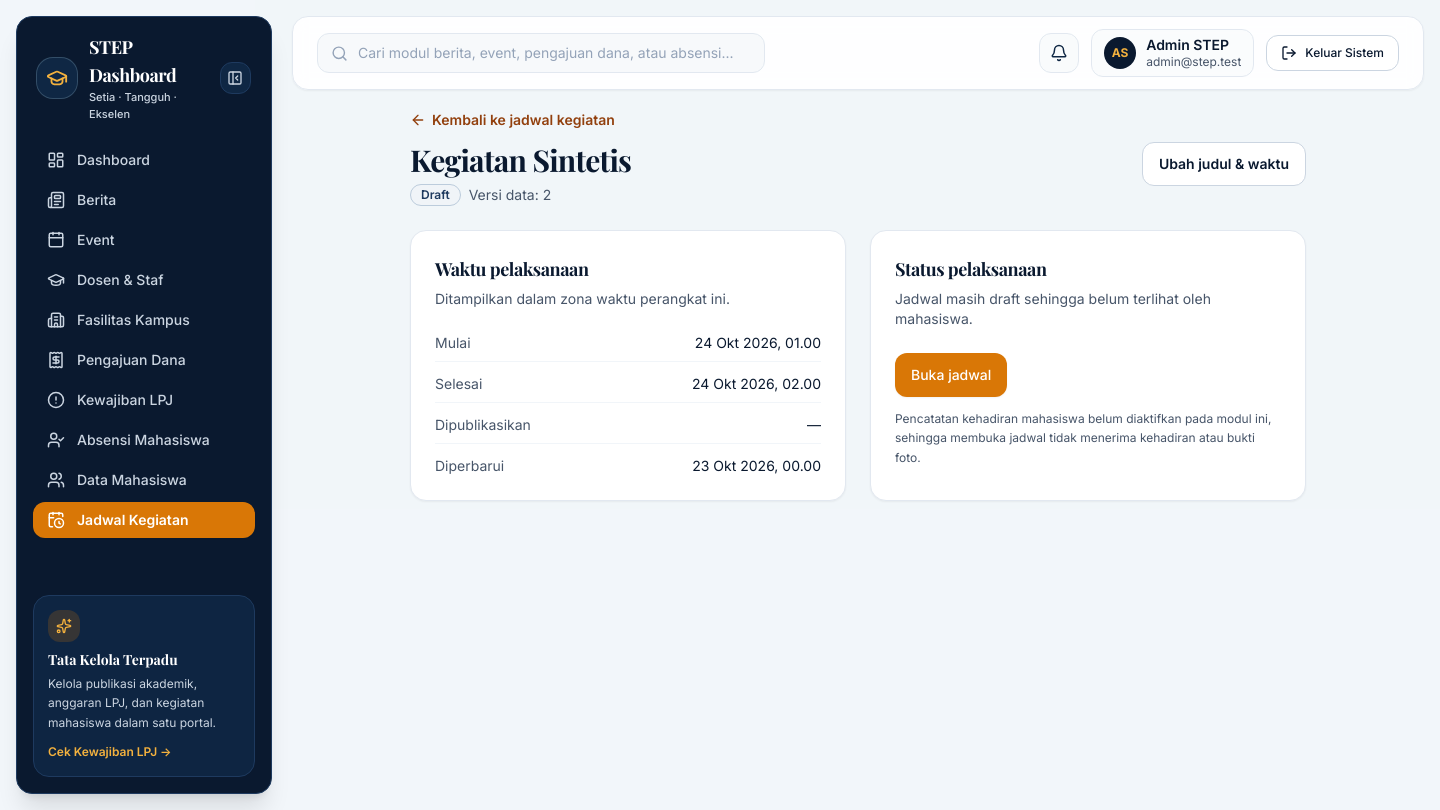
Klien mahasiswa & jadwal kegiatan (client-only, transport disimulasikan) › detail kegiatan hanya menawarkan transisi draft ke open lalu open ke closed
Click the button "Buka jadwal" at (951, 374), box [895, 352, 1007, 396]
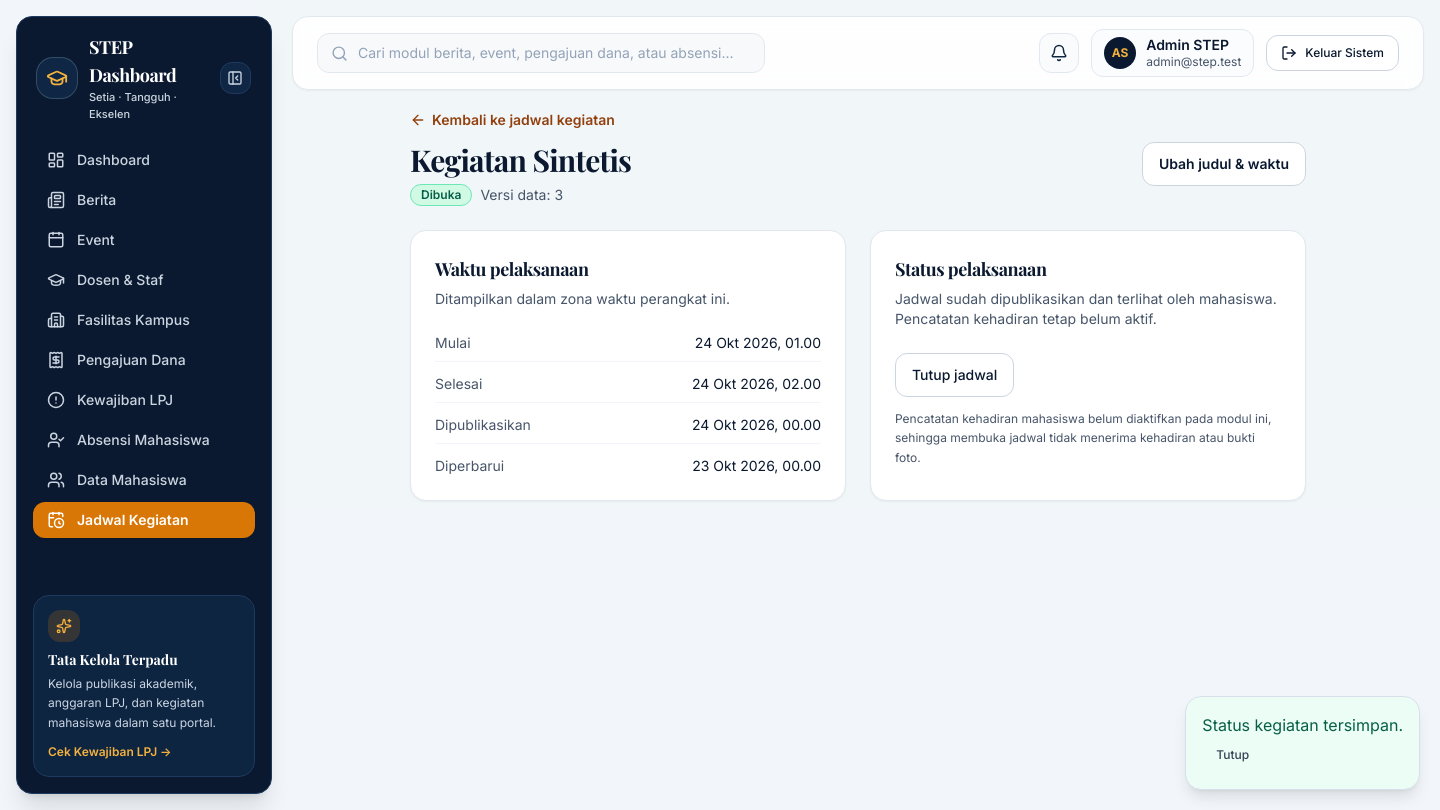
Click the button "Tutup jadwal" at (955, 374), box [895, 352, 1014, 396]
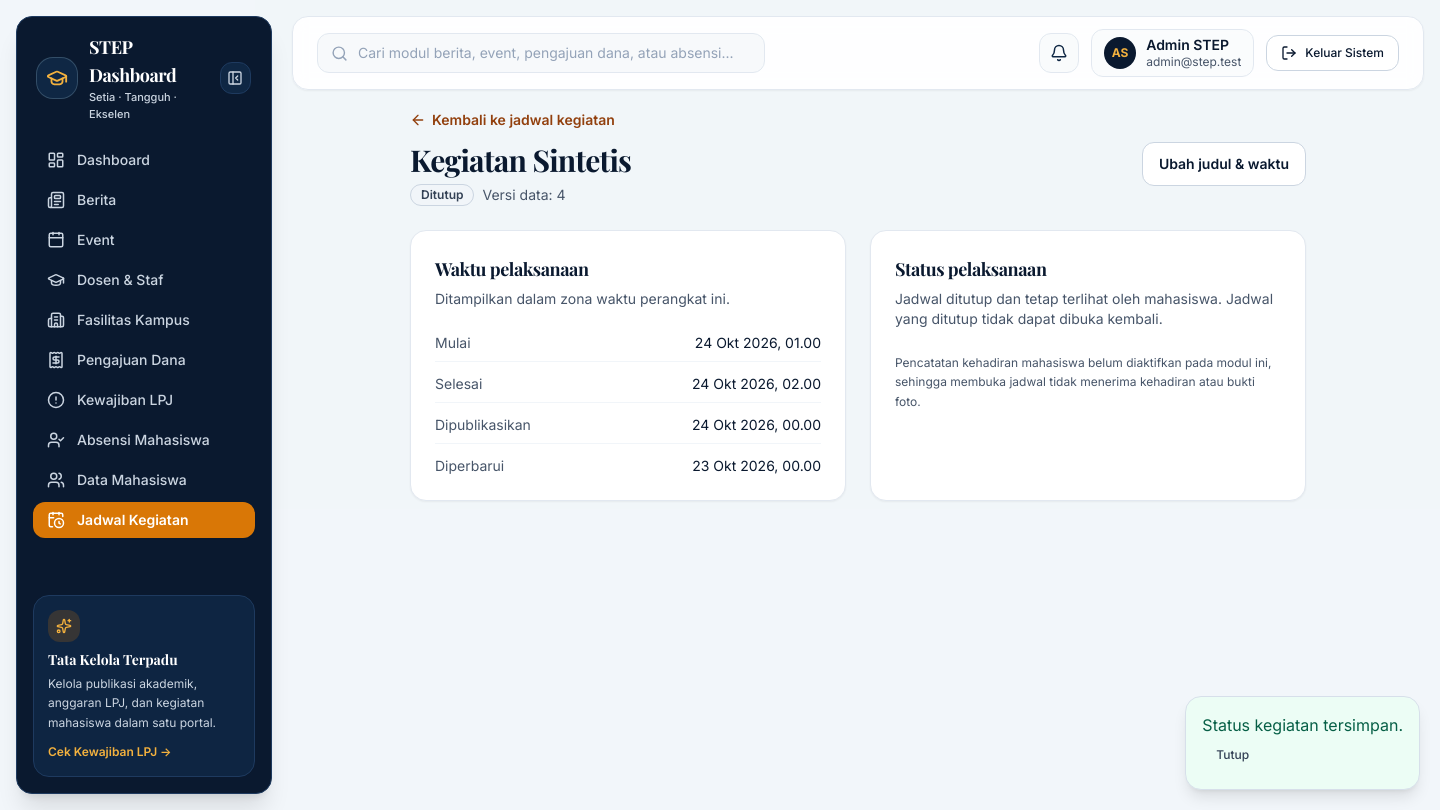
Expected: the button "Buka jadwal" is not shown
Expected: the text "Jadwal ditutup dan tetap terlihat oleh mahasiswa" is shown, [895, 290, 1273, 326]
Expected: the button "Tutup jadwal" is gone
